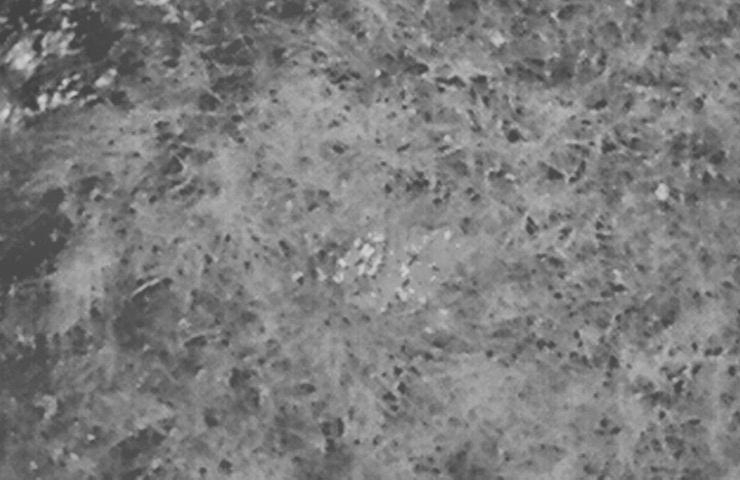landmines: (337, 224, 448, 313)
